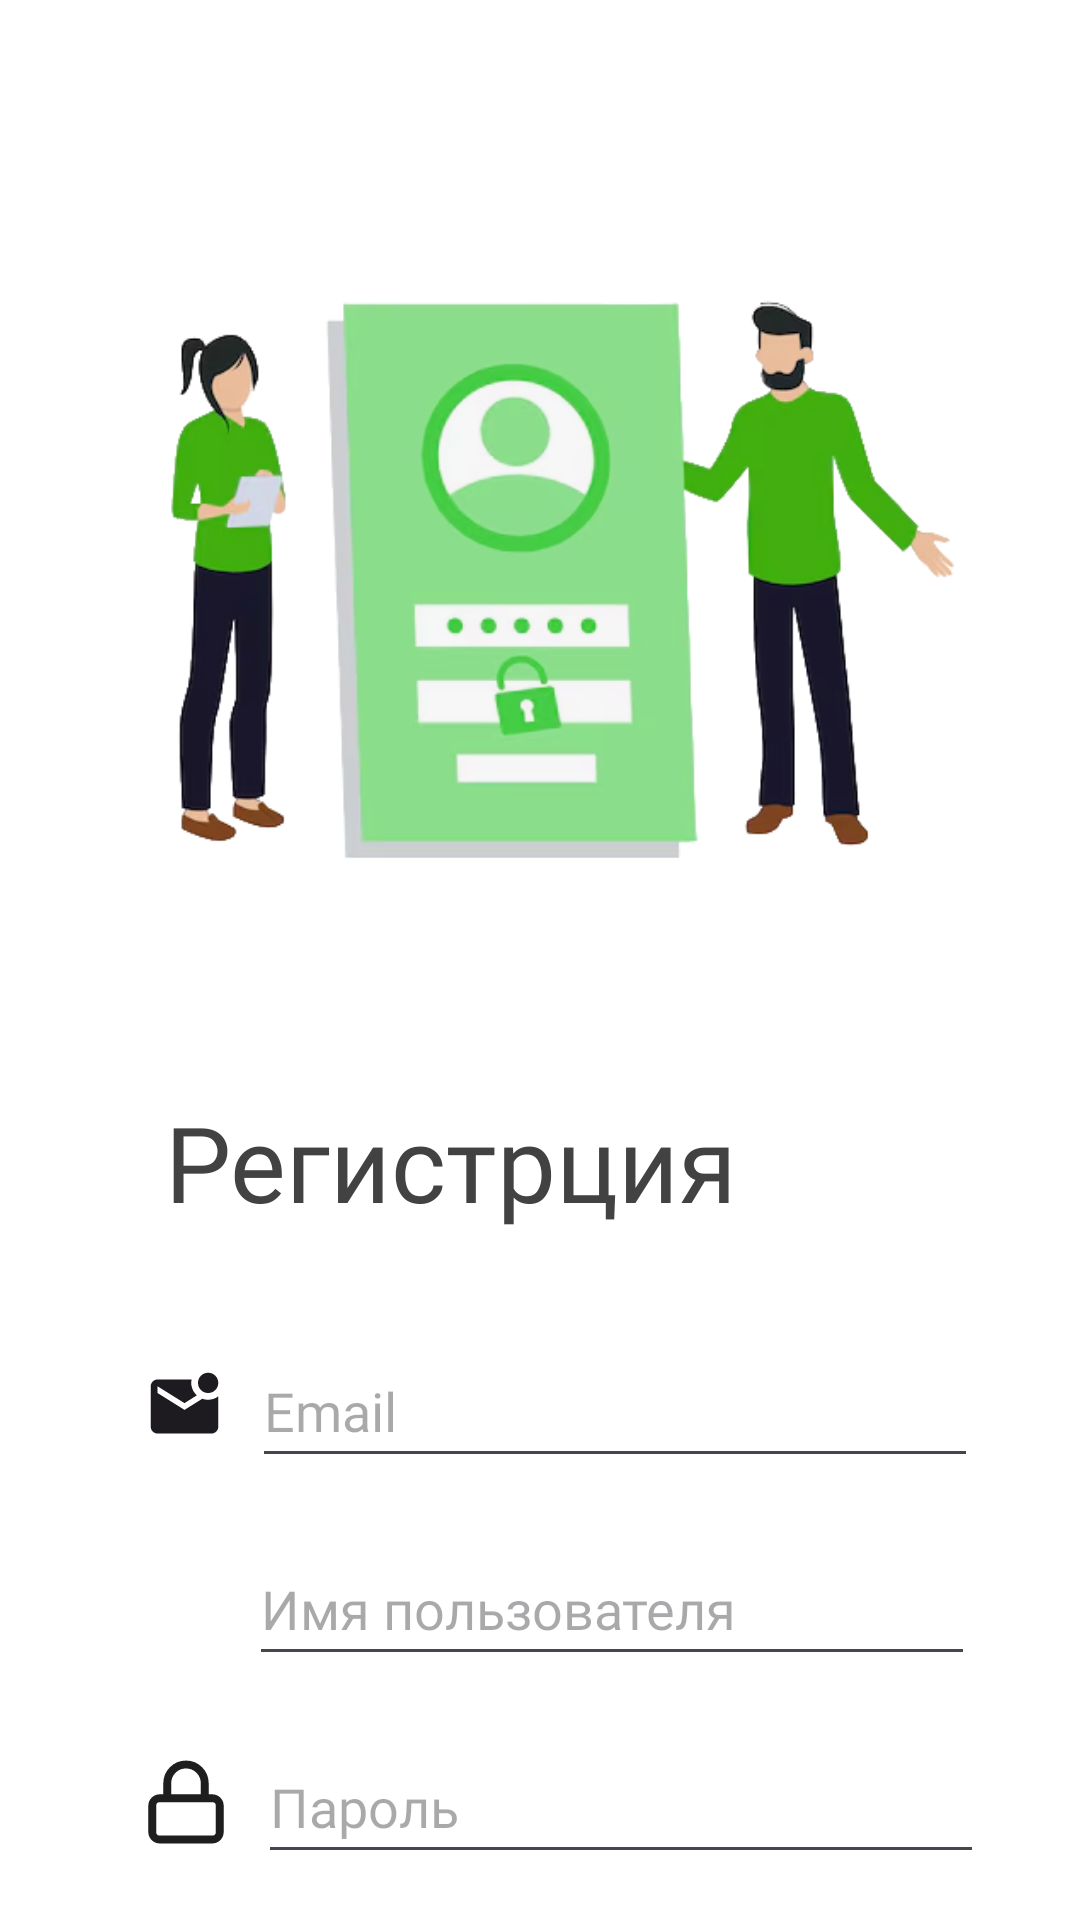

Named icons in this screenshot (1080 × 1920) and their bounding boxes, {"x1": x1, "y1": y1, "x2": x2, "y2": y2}:
lock: {"x1": 148, "y1": 1760, "x2": 224, "y2": 1844}
